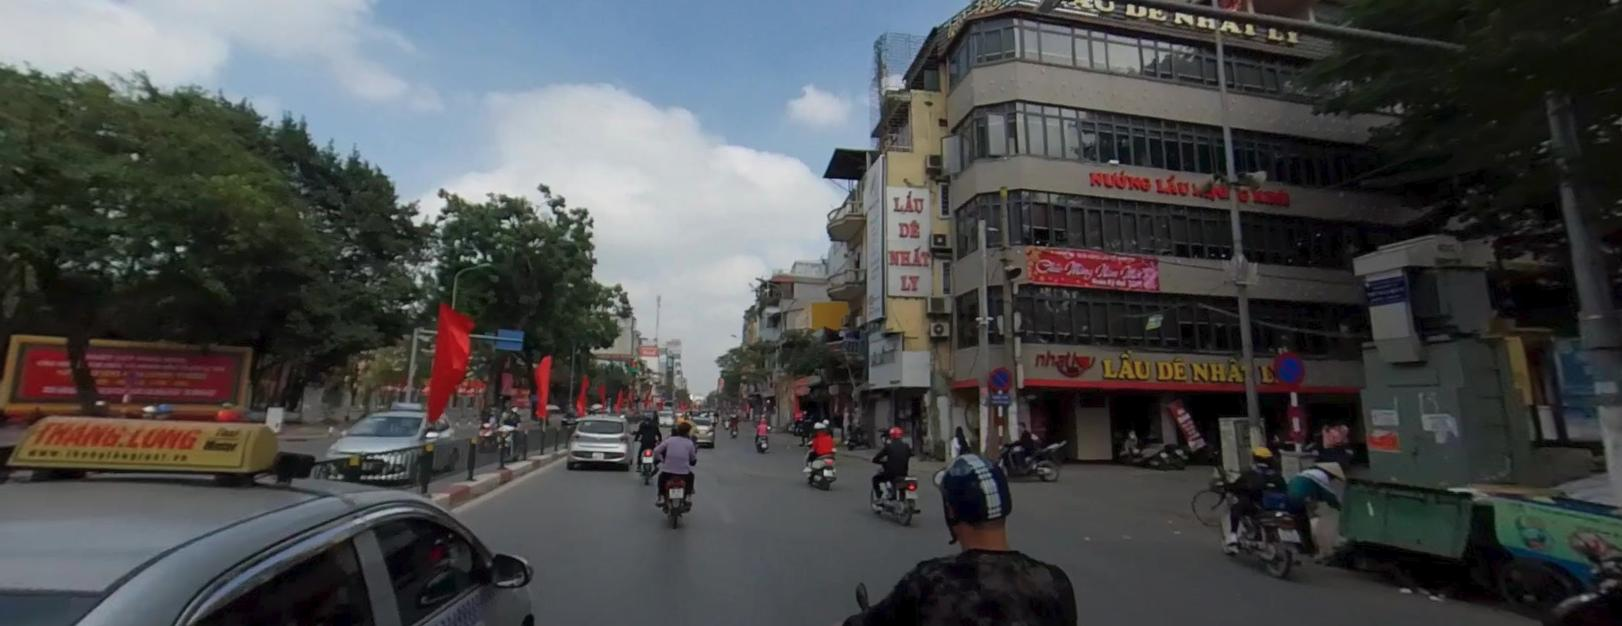Cam dung va do: (1271, 349, 1305, 389), (986, 364, 1013, 390)
